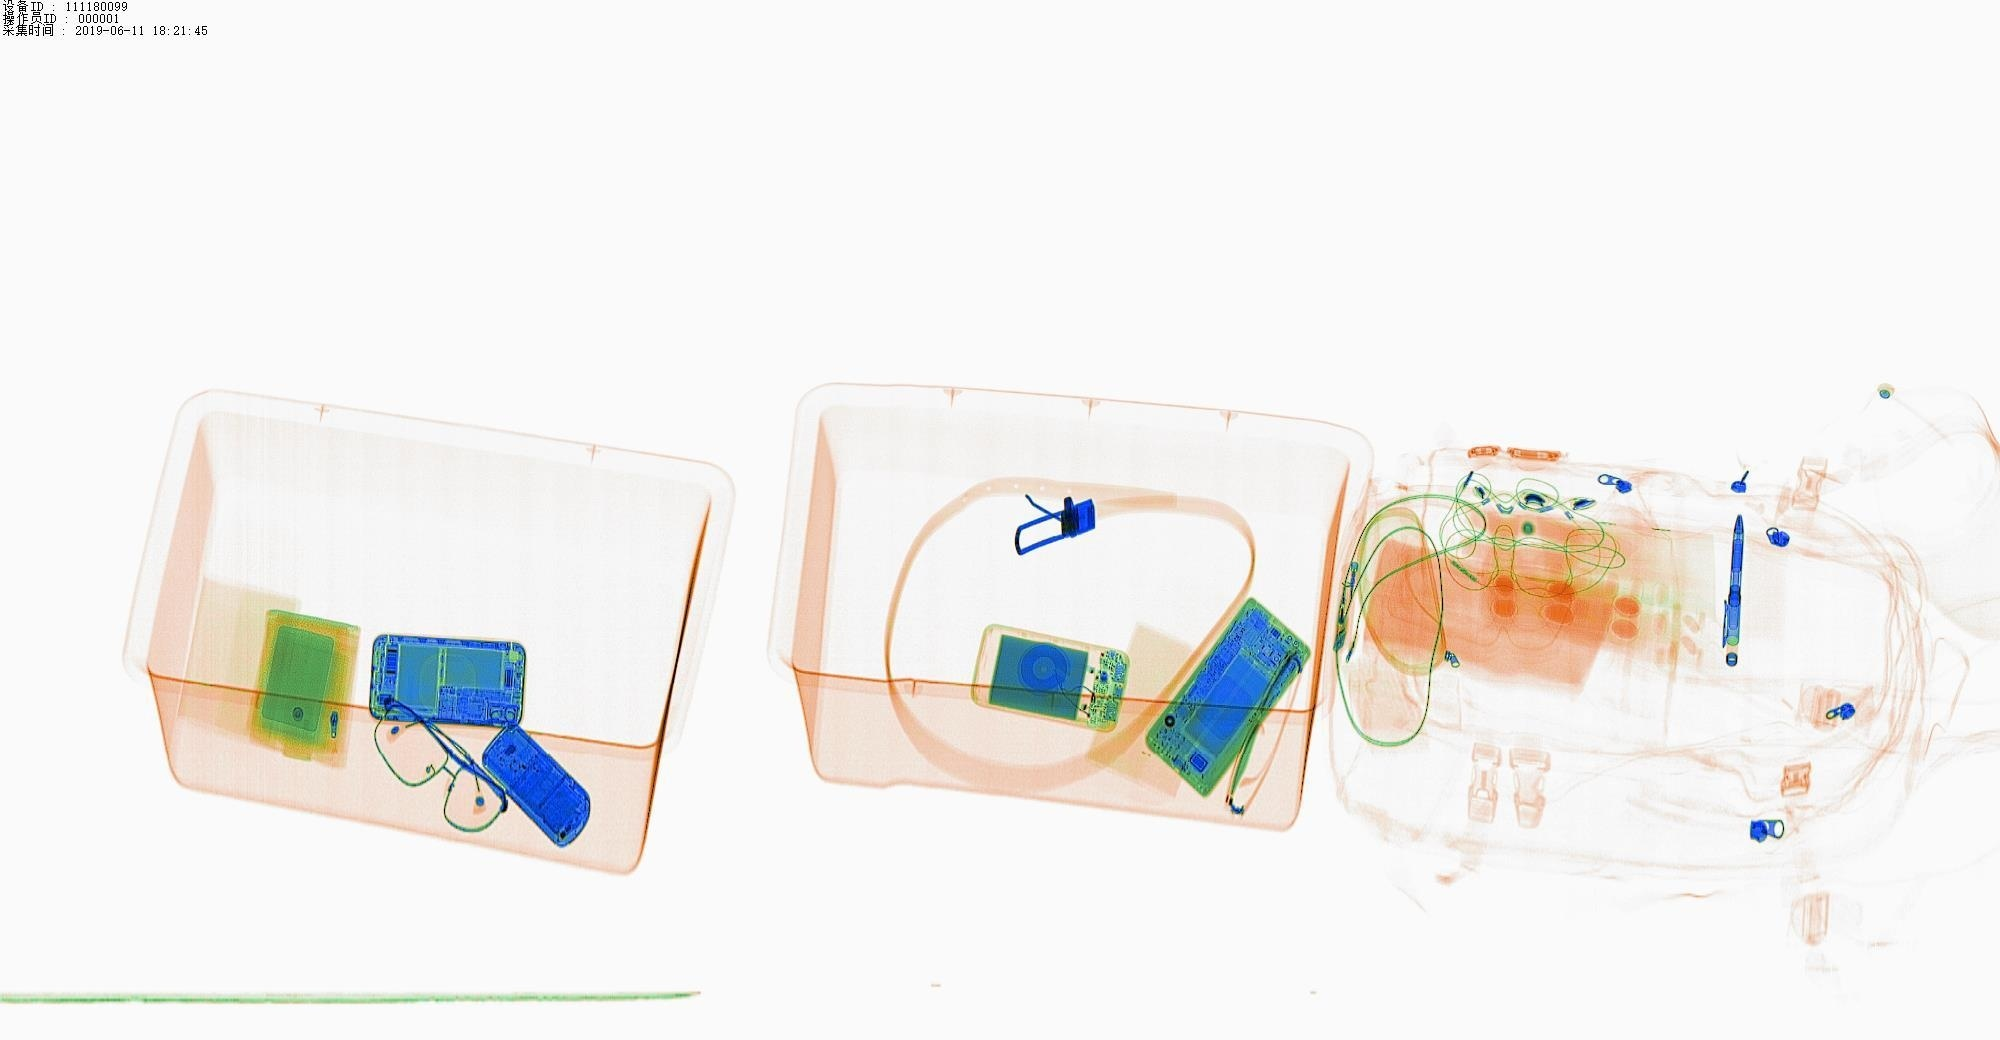NonmetallicFire: (1306, 536, 1388, 671)
